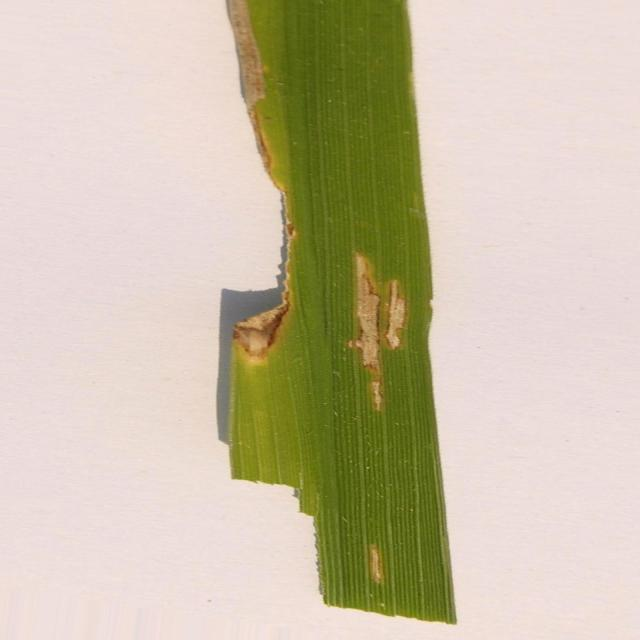Bacterial_Leaf_Blight: (232, 209, 295, 359), (349, 251, 408, 411), (228, 0, 271, 172), (368, 544, 385, 584)
